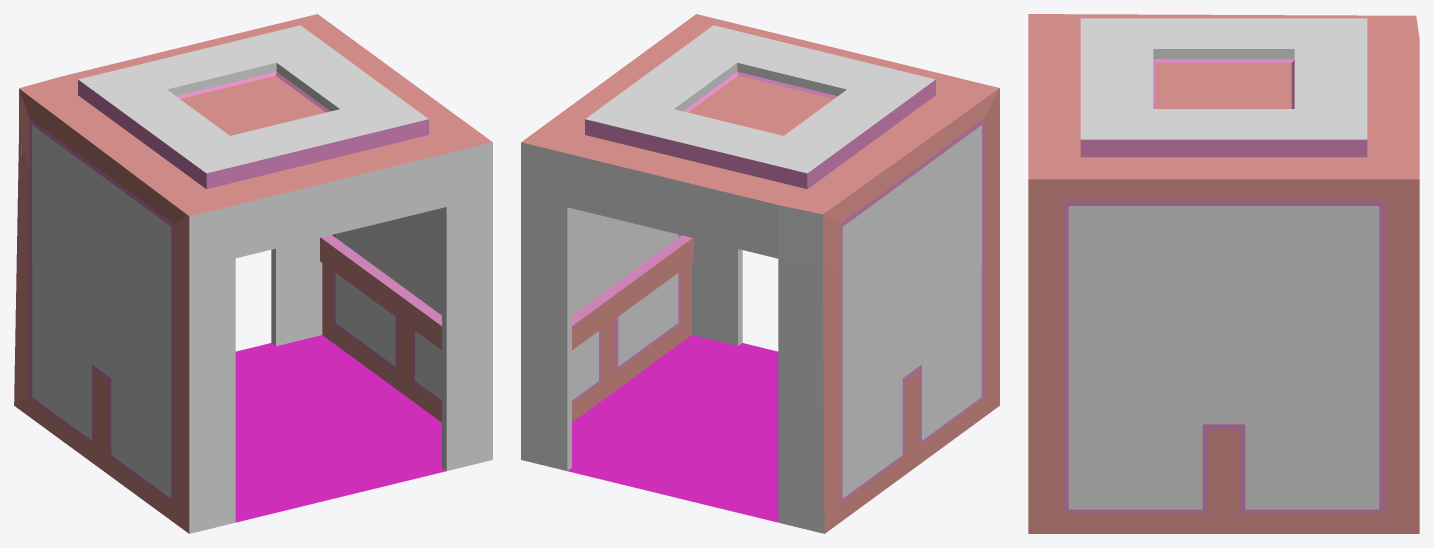
Rendered from Elevator Capsule.fbx.
3 renders of one model, left to right at view 1: azimuth 30°, elevation 25°; view 2: azimuth 150°, elevation 25°; view 3: azimuth 270°, elevation 25°, orthographic. The views are drawn at different scales.
Parts seen in each view (by area): view 1: Plane.011; view 2: Plane.011; view 3: Plane.011.
Boxes of the visible parts, x1,y1,x2,y2 form: Plane.011: (14,14,492,533); Plane.011: (521,14,999,533); Plane.011: (1028,14,1419,533).
Size of the model in its own units: 3 by 3.15 by 3.
